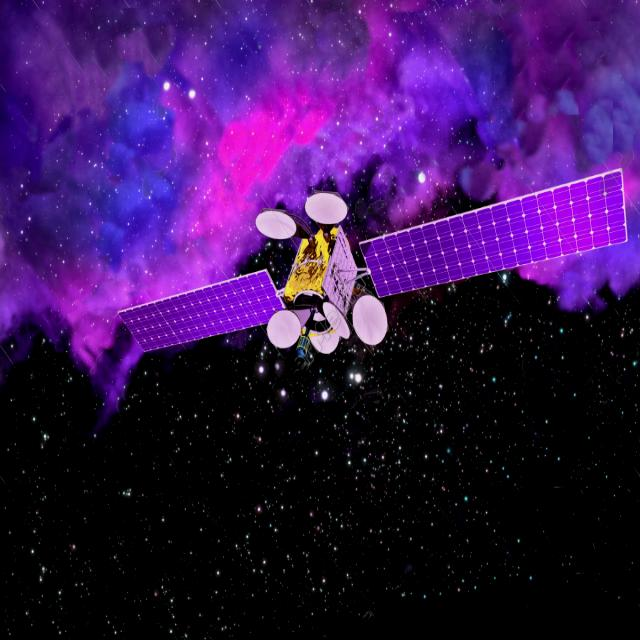medium_debris: (100, 162, 640, 372)
